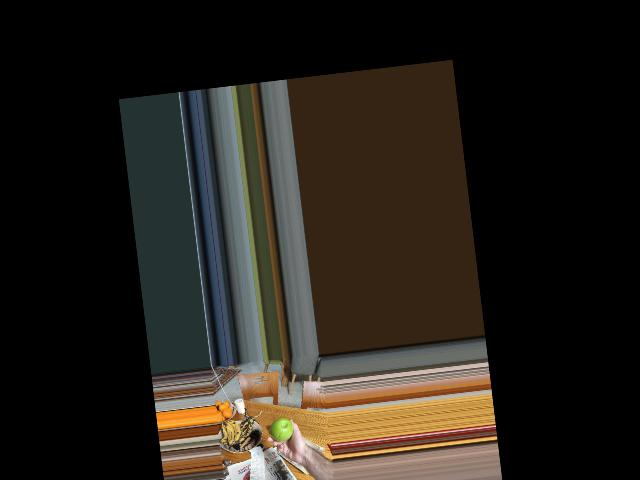apple: (269, 415, 295, 443)
